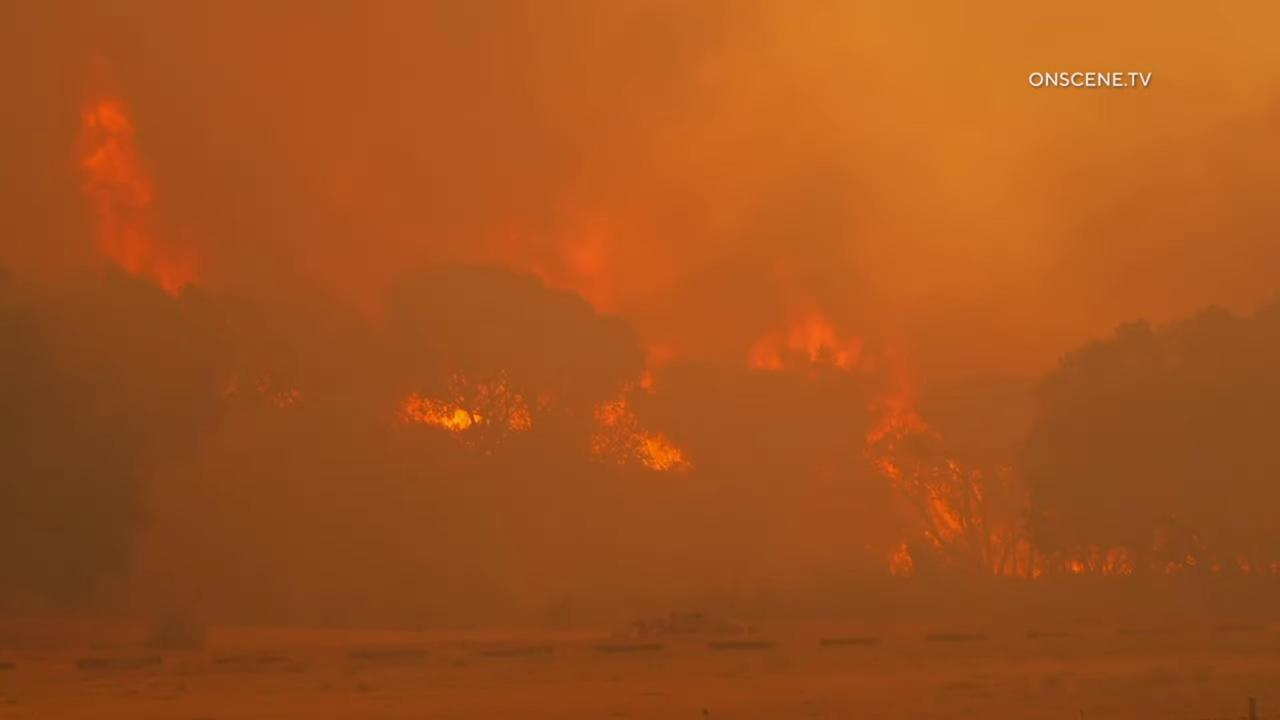fire: (858, 390, 1141, 582), (64, 45, 201, 299), (580, 364, 696, 479), (397, 365, 533, 443), (741, 294, 869, 373)
smoke: (0, 0, 1280, 642)
